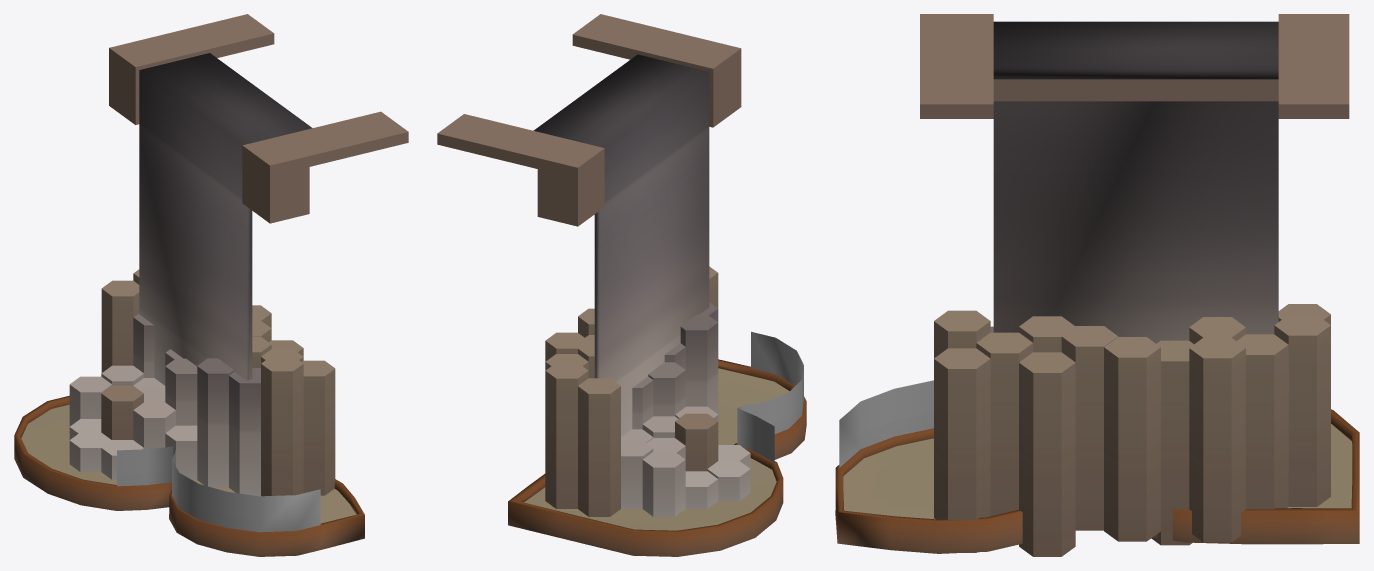
Rendered from Waterfall.fbx.
3 views of the same model, side by side, from view 1: azimuth 30°, elevation 25°; view 2: azimuth 150°, elevation 25°; view 3: azimuth 270°, elevation 25° (orthographic). The views are drawn at different scales.
Parts seen in each view (by area): view 1: Base; view 2: Base; view 3: Base.
Boxes of the visible parts, x1,y1,x2,y2 form: Base: [14, 14, 408, 556]; Base: [437, 14, 806, 556]; Base: [835, 14, 1359, 556].
Bounding box in the file's own units: 3395 × 4485 × 4293.
